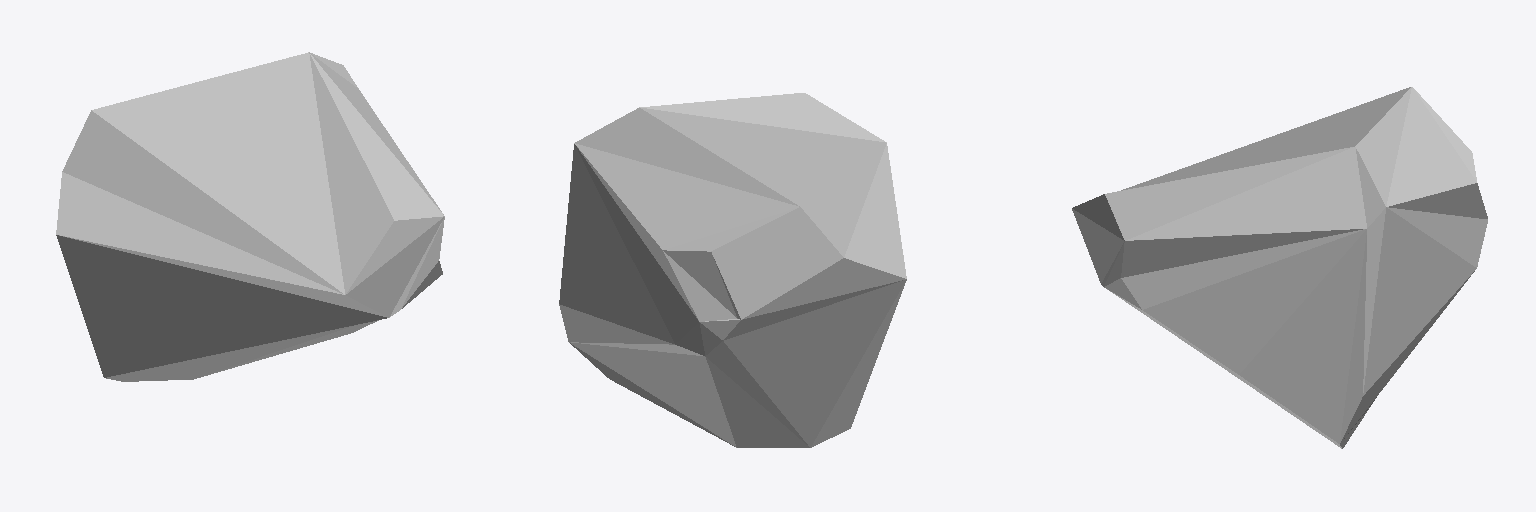
File: Stone_4.obj
3 renders of one model, left to right at view 1: azimuth 30°, elevation 25°; view 2: azimuth 150°, elevation 25°; view 3: azimuth 270°, elevation 25°, orthographic.
Visible parts, largest first — view 1: Cube.001; view 2: Cube.001; view 3: Cube.001.
Boxes of the visible parts, x1=… form: Cube.001: x1=56, y1=52, x2=444, y2=381; Cube.001: x1=559, y1=93, x2=906, y2=447; Cube.001: x1=1072, y1=87, x2=1487, y2=448.
Bounding box in the file's own units: 0.3454 × 0.2999 × 0.368.